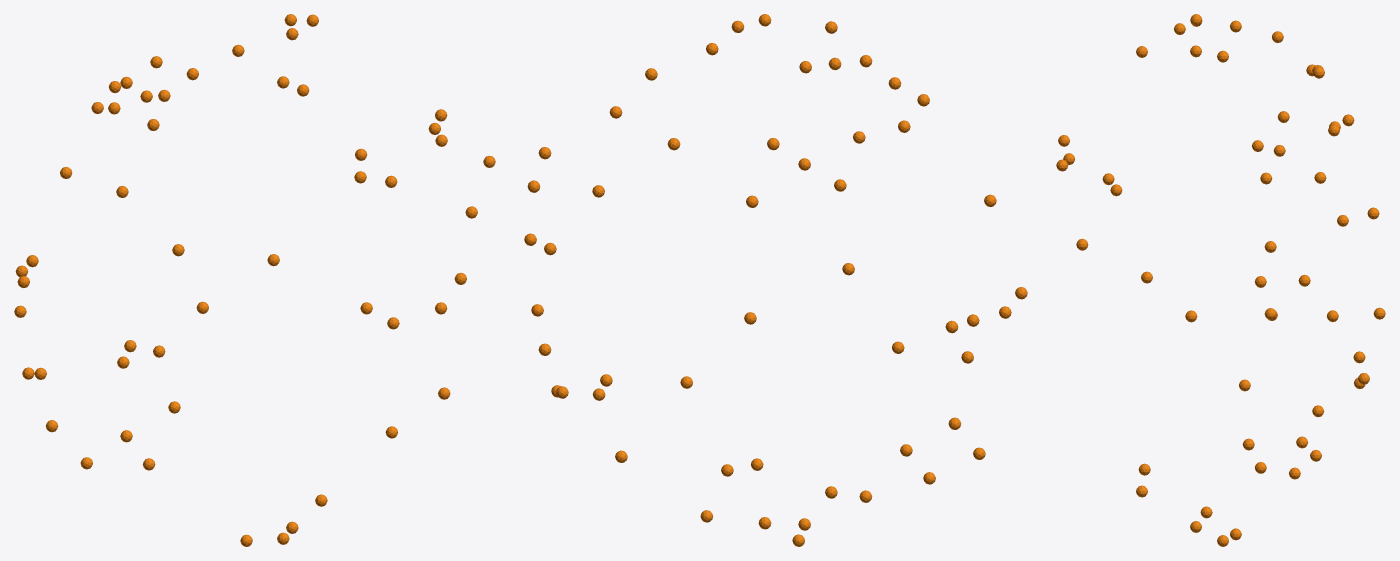
The model's file is citrus_plain_c_fruit.obj.
The picture shows the model from 3 angles, left to right: view 1: azimuth 30°, elevation 25°; view 2: azimuth 150°, elevation 25°; view 3: azimuth 270°, elevation 25°; orthographic projection. The views are drawn at different scales.
Parts seen in each view (by area): view 1: fruit; view 2: fruit; view 3: fruit.
Part boxes in pixels (x1=…): fruit: x1=14, y1=14, x2=495, y2=546; fruit: x1=524, y1=14, x2=1027, y2=546; fruit: x1=1056, y1=14, x2=1385, y2=546.
Size of the model in its own units: 3.16 by 3.38 by 2.07.
